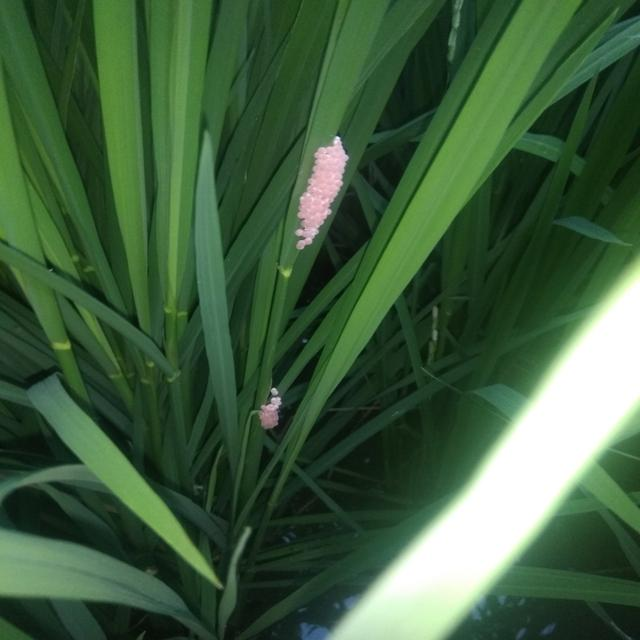Leaf blast: (286, 127, 358, 256), (250, 375, 292, 445)
